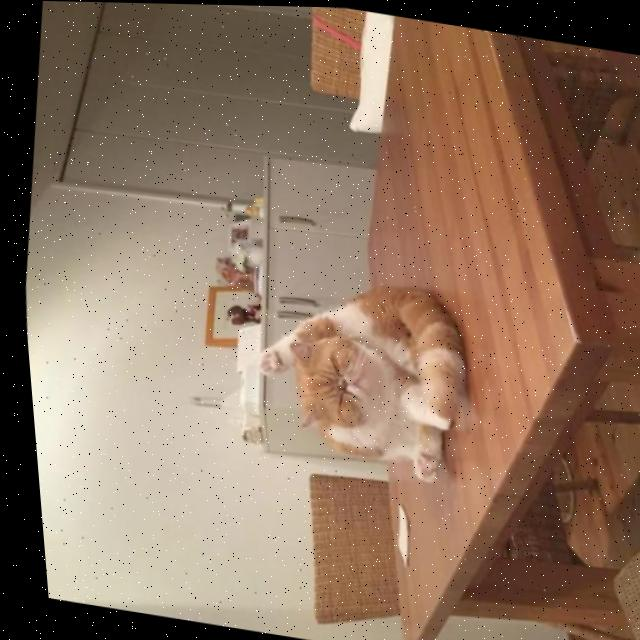Cats: (217, 239, 505, 511)
